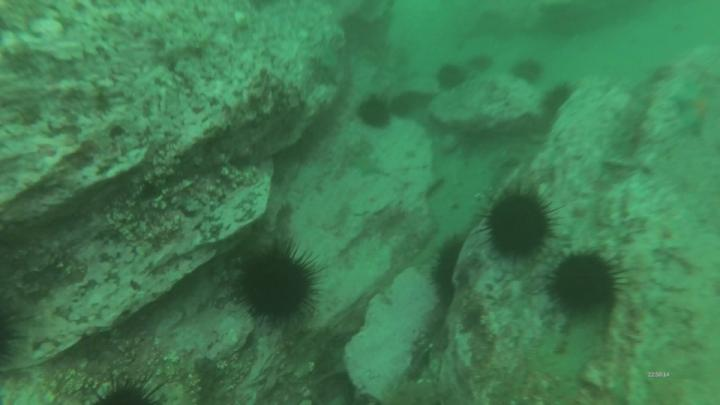echinus: (230, 238, 326, 334), (478, 182, 564, 266), (543, 245, 631, 325), (82, 373, 179, 405), (431, 234, 470, 313), (540, 82, 576, 122), (356, 93, 393, 131), (507, 57, 548, 88), (434, 61, 470, 94), (386, 94, 415, 119), (465, 54, 497, 76)
starfish: (670, 78, 715, 135)
